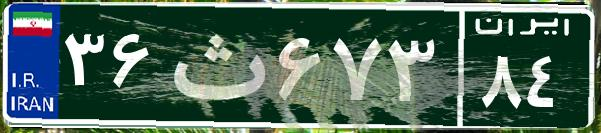3: (385, 28, 445, 110), (57, 26, 110, 107)
4: (525, 38, 570, 115)
6: (273, 28, 330, 110), (110, 28, 158, 105)
7: (330, 28, 385, 110)
8: (475, 38, 525, 113)
ث: (158, 15, 273, 115)
